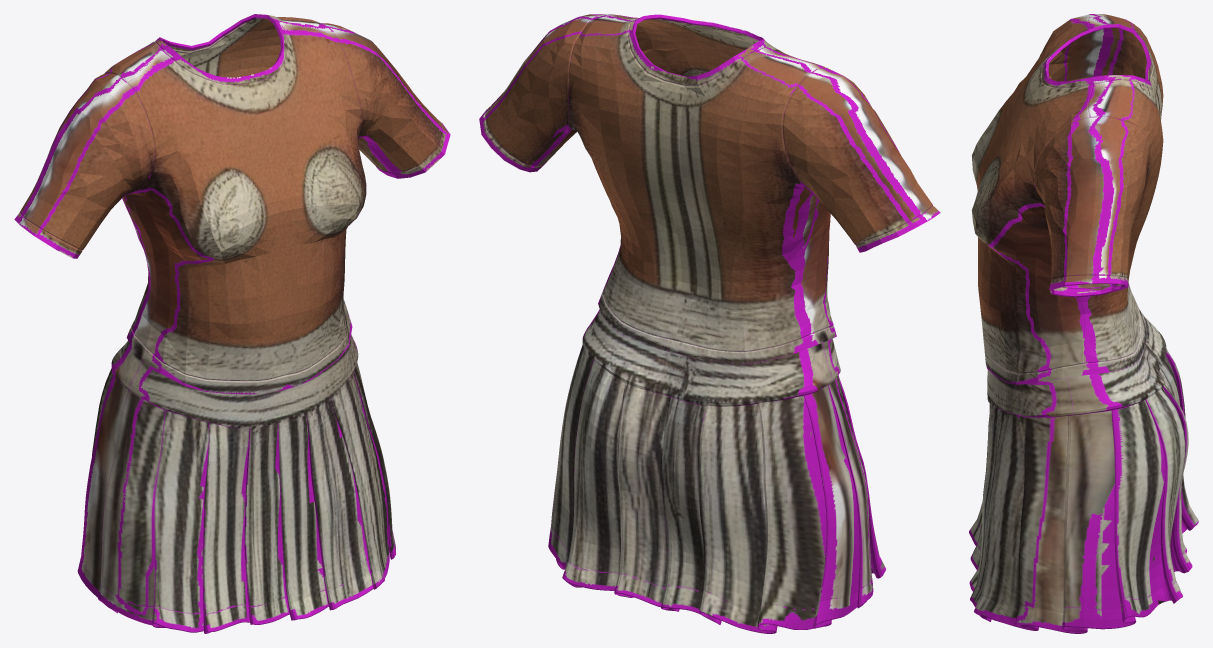
3 views of the same model, side by side, from view 1: azimuth 30°, elevation 25°; view 2: azimuth 150°, elevation 25°; view 3: azimuth 270°, elevation 25° (orthographic). The views are drawn at different scales.
Size of the model in its own units: 0.6866 by 0.8439 by 0.3292.
1 material, 1 textured.
